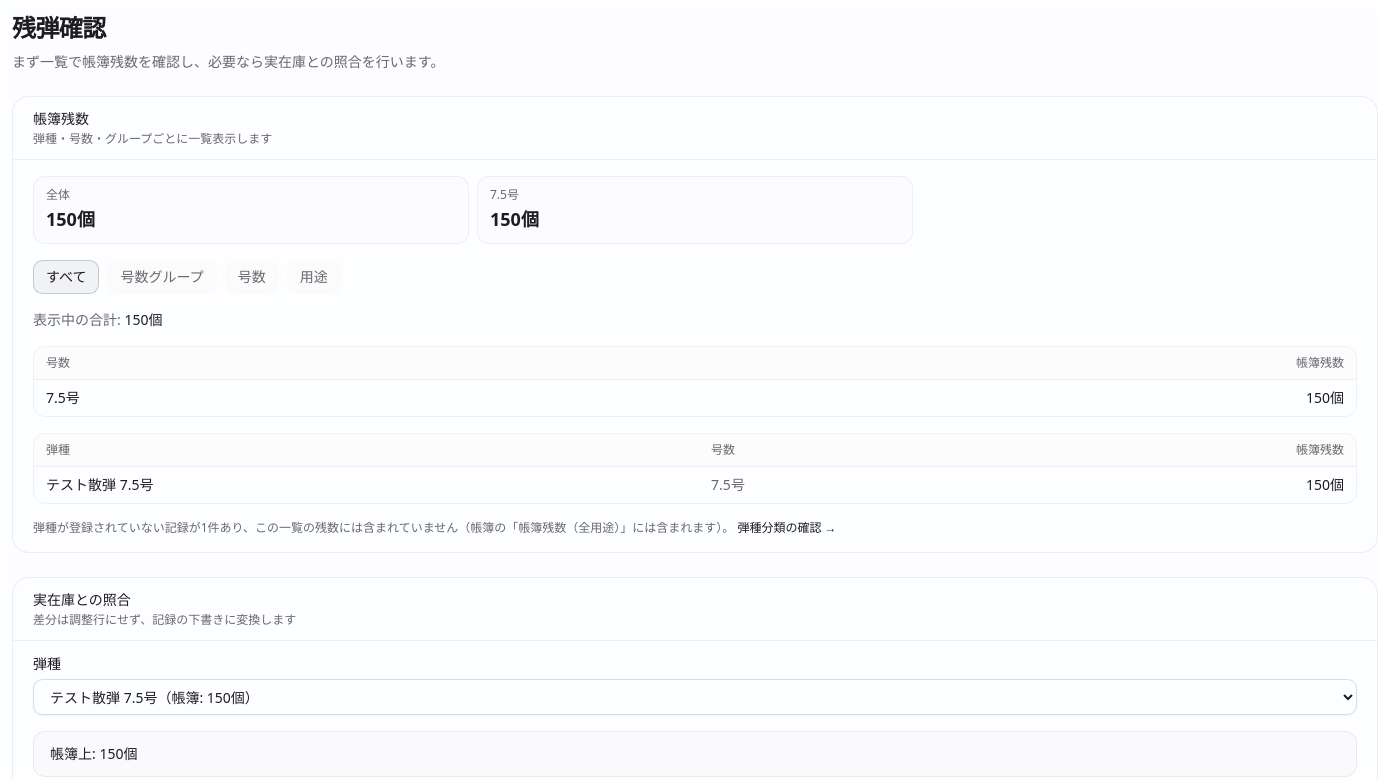
Test: InventoryView › 用途で見ると、その用途の帳簿の残数を出す
Expected: the text "150個" in the row of "テスト散弾 7.5号" is shown, x1=1306 y1=475 x2=1344 y2=494
Click the button "用途": {"x": 314, "y": 277} x1=287 y1=260 x2=341 y2=294
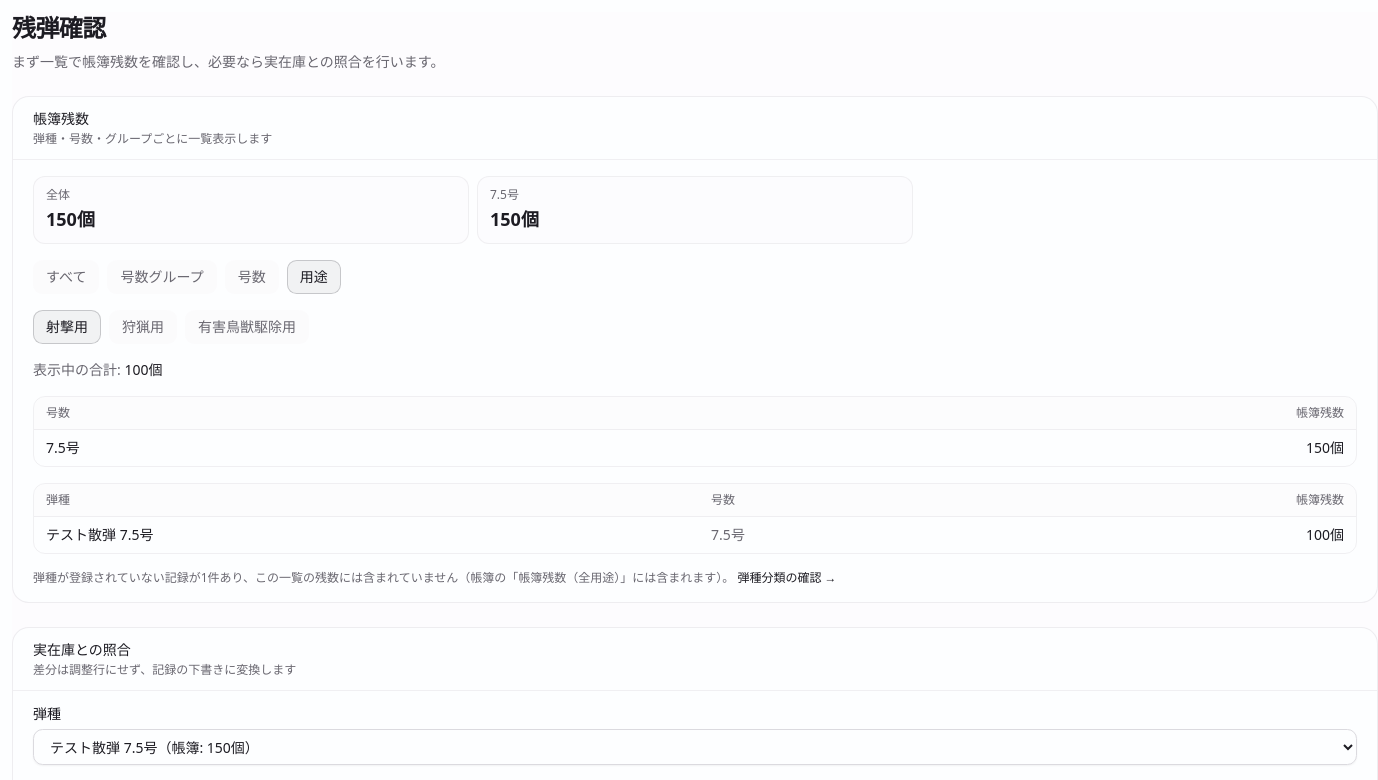
Click the button "狩猟用": {"x": 143, "y": 327} x1=109 y1=310 x2=177 y2=344
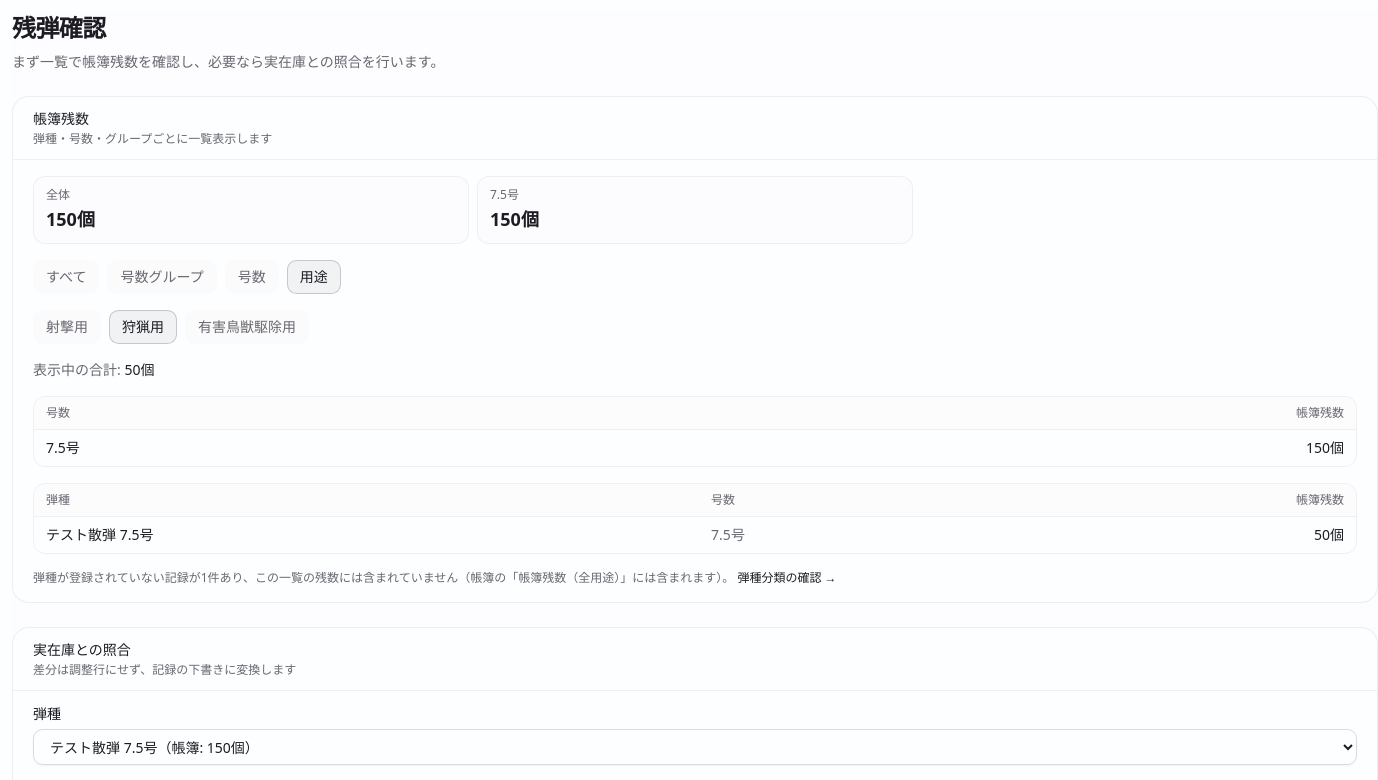
Now the text "50個" is shown, box x1=992 y1=517 x2=1356 y2=553
Now the text "表示中の合計: 50個" is shown, box x1=33 y1=360 x2=154 y2=379
